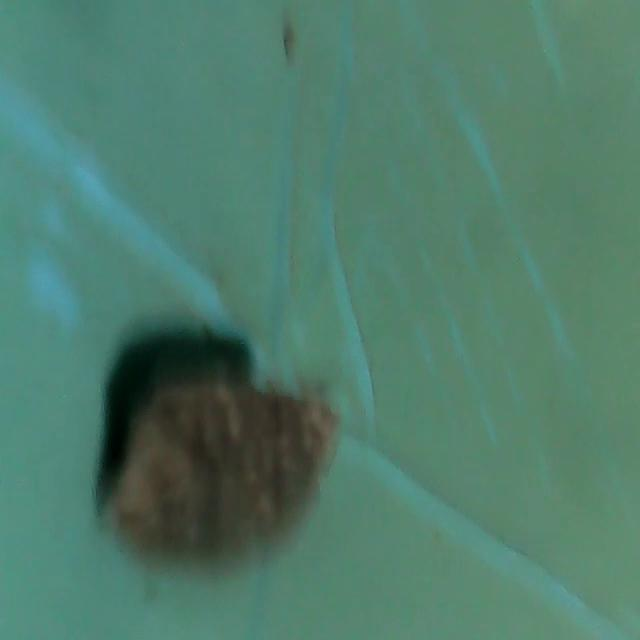rock: (93, 353, 347, 597)
